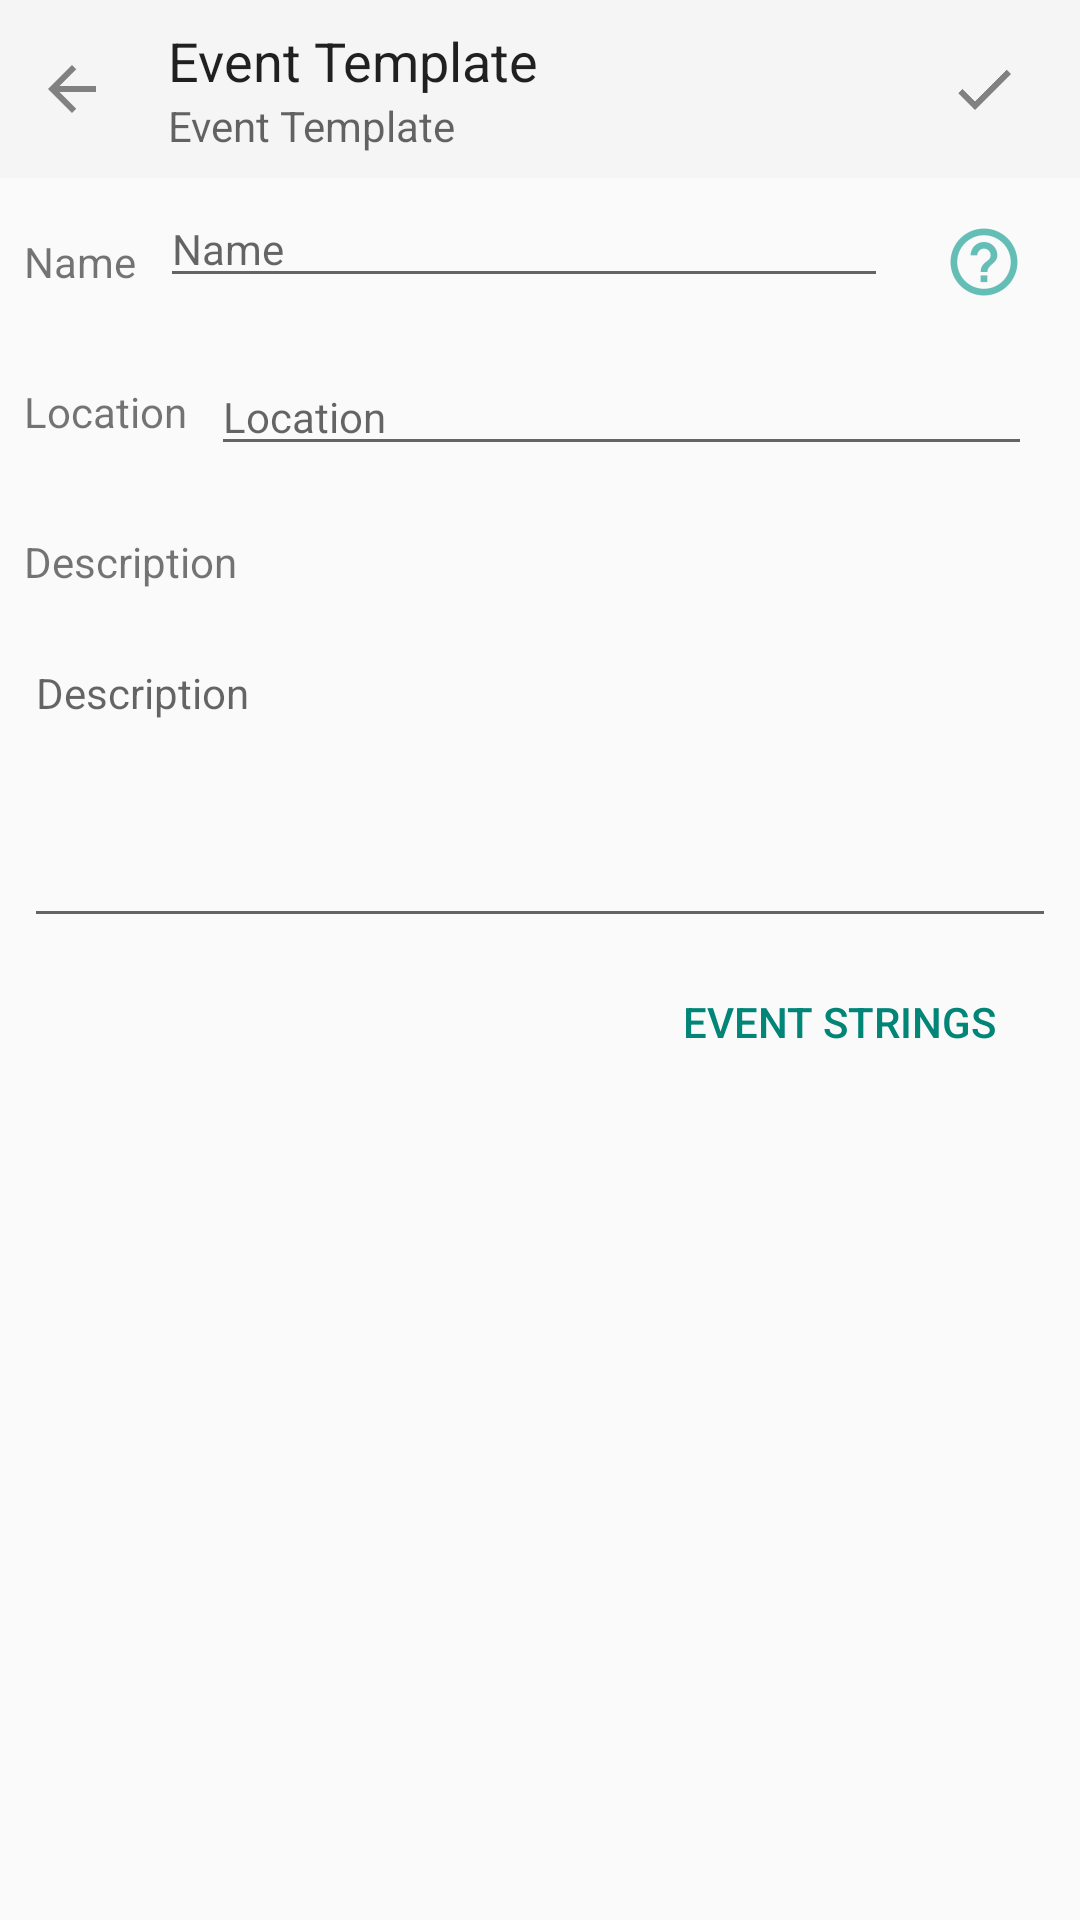

Icons on this 1080x1920 Android screen, each with its box as (x1, y1, x2, y2):
Cancel: (48, 65, 96, 113)
Help: (950, 228, 1018, 296)
OK: (958, 70, 1011, 110)
